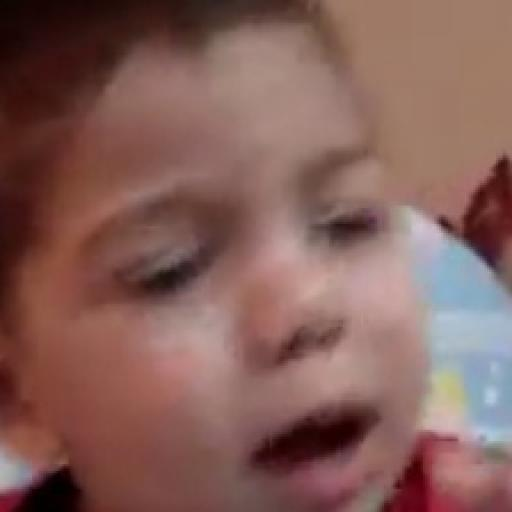Autism: (42, 43, 449, 512)
